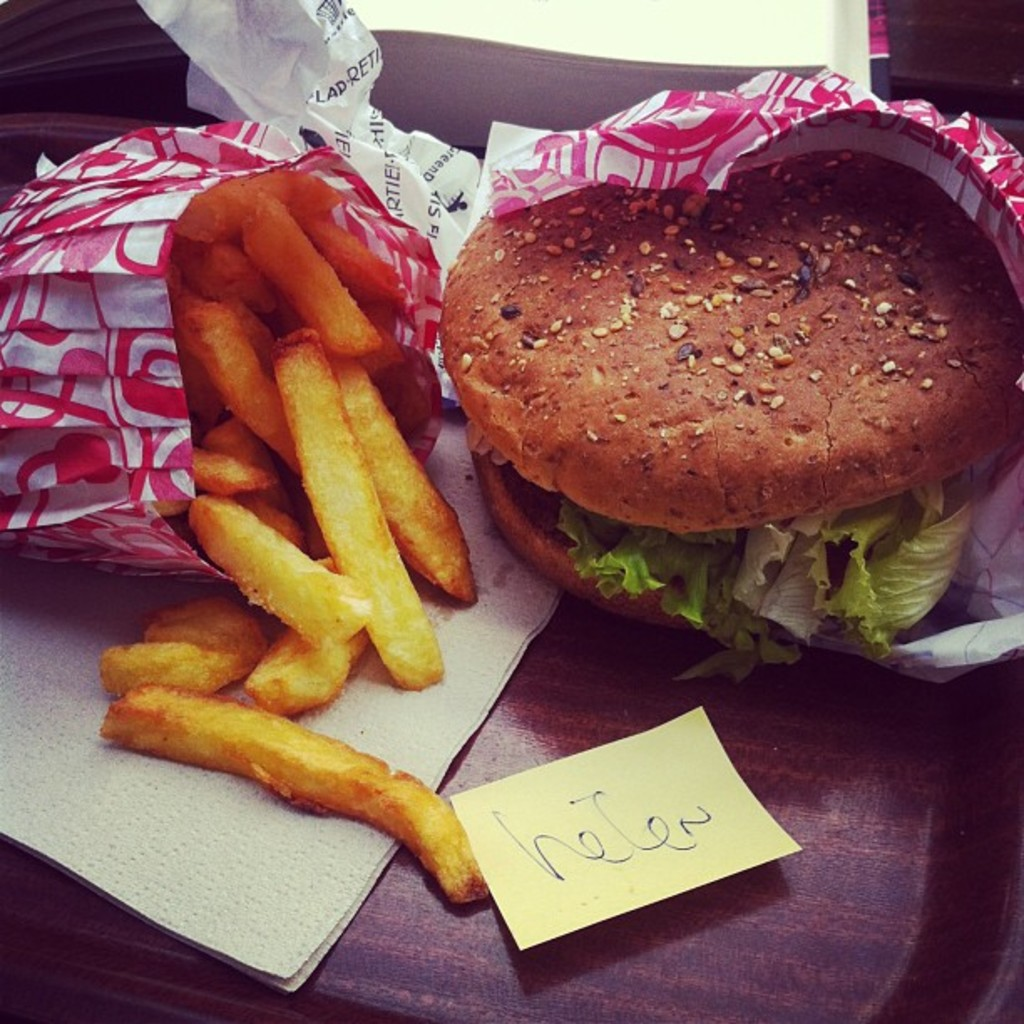French fries: (110, 108, 520, 868)
